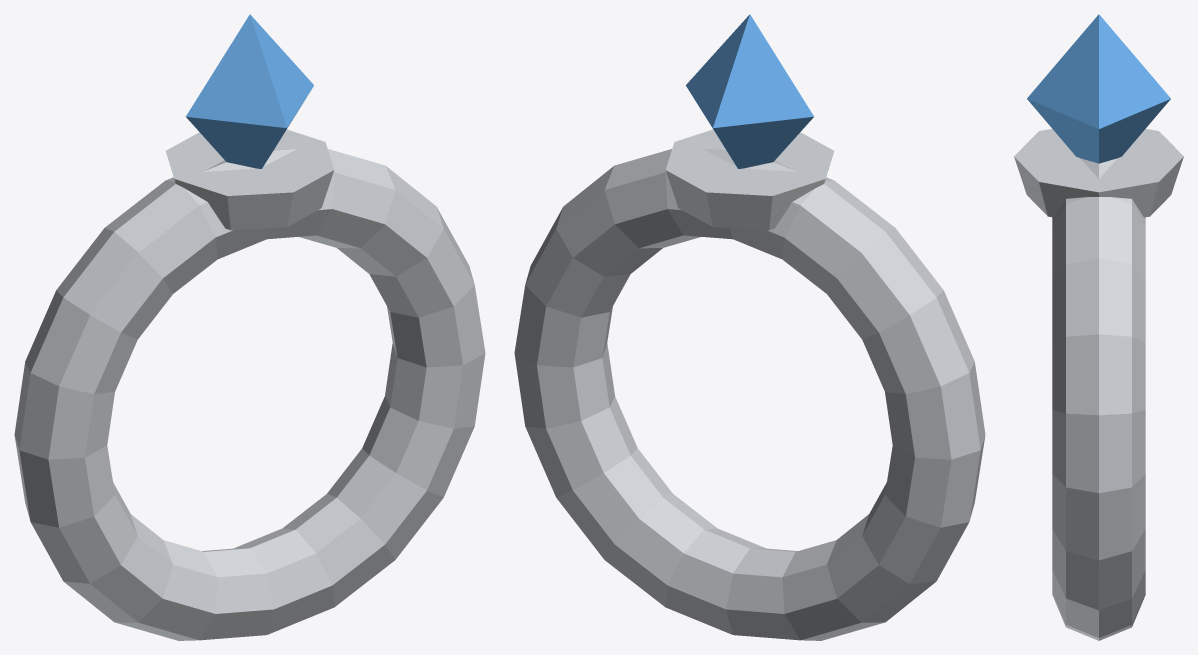
File: ring-silver.glb
3 renders of one model, left to right at view 1: azimuth 30°, elevation 25°; view 2: azimuth 150°, elevation 25°; view 3: azimuth 270°, elevation 25°, orthographic. The views are drawn at different scales.
Size of the model in its own units: 1.22 by 1.57 by 0.4.
